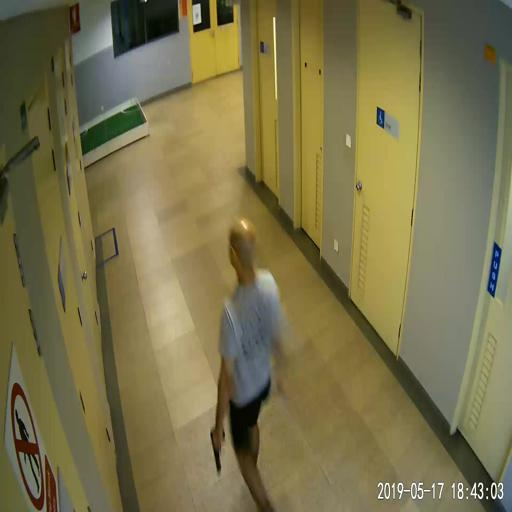pistol: (210, 427, 224, 472)
